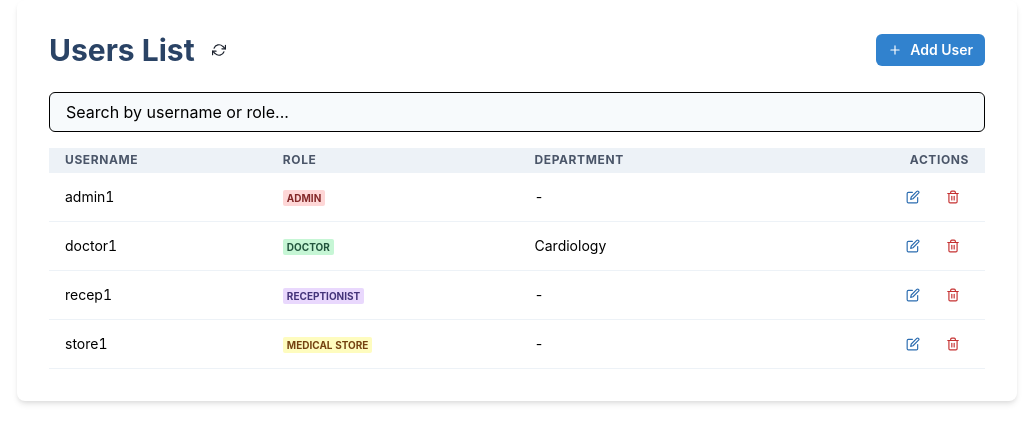
Test: UsersList Component › handles search filtering
The image size is (1035, 422).
expect the text "admin1" is shown: met, box x1=49 y1=172 x2=267 y2=222
Type "doctor" into the field with placeholder "Search by username or role..." at (517,112), box x1=49 y1=92 x2=985 y2=132
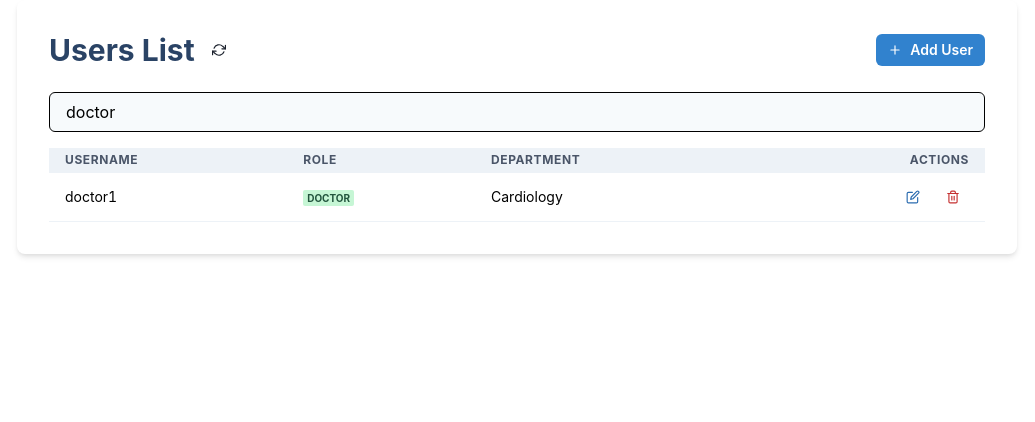
expect the text "doctor1" is shown: met, box x1=49 y1=172 x2=287 y2=222
expect the text "admin1" is gone: met
